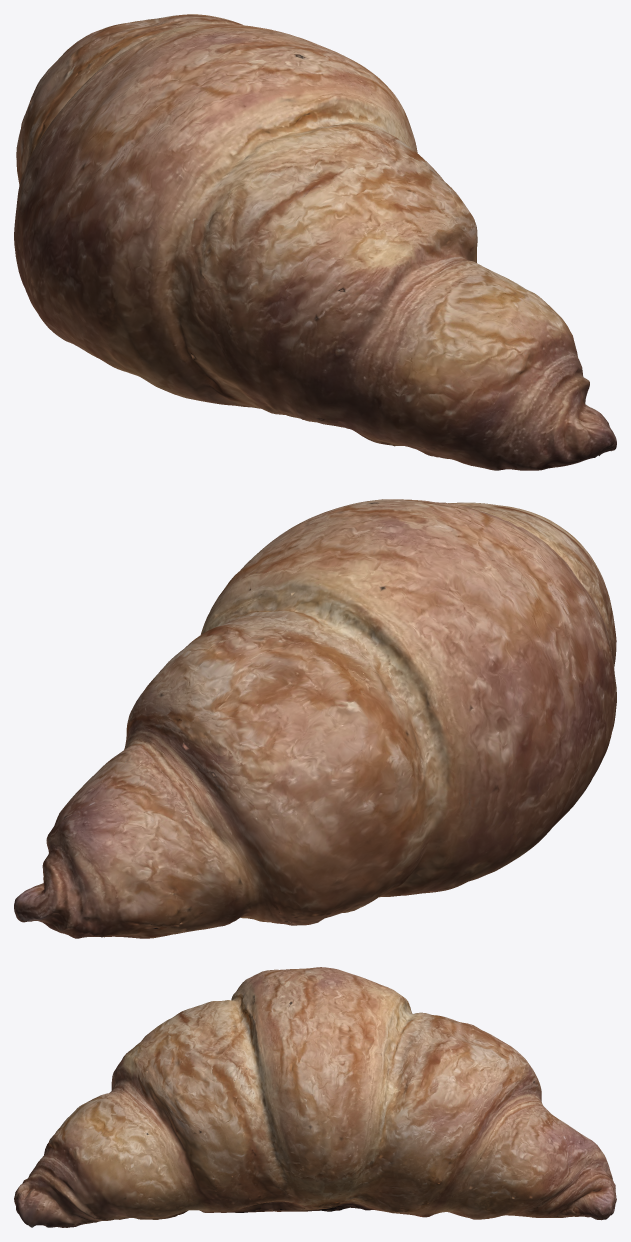
The model's file is gipfeli.glb.
3 views of the same model, one above another, from view 1: azimuth 30°, elevation 25°; view 2: azimuth 150°, elevation 25°; view 3: azimuth 270°, elevation 25° (orthographic). The views are drawn at different scales.
Parts seen in each view (by area): view 1: Crossant; view 2: Crossant; view 3: Crossant.
Part boxes in pixels (x1,y1,x2,y2): Crossant: (14,14,616,470); Crossant: (14,499,616,938); Crossant: (14,967,616,1227).
Size of the model in its own units: 0.2287 by 0.188 by 0.4951.
Materials: 1 (1 with a texture image).
